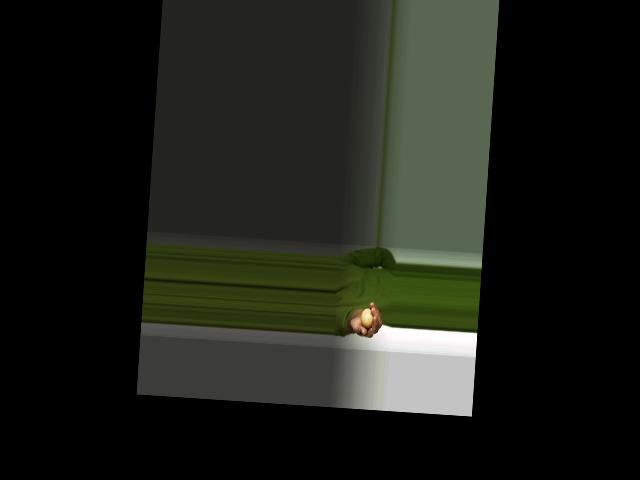egg: (360, 307, 374, 328)
